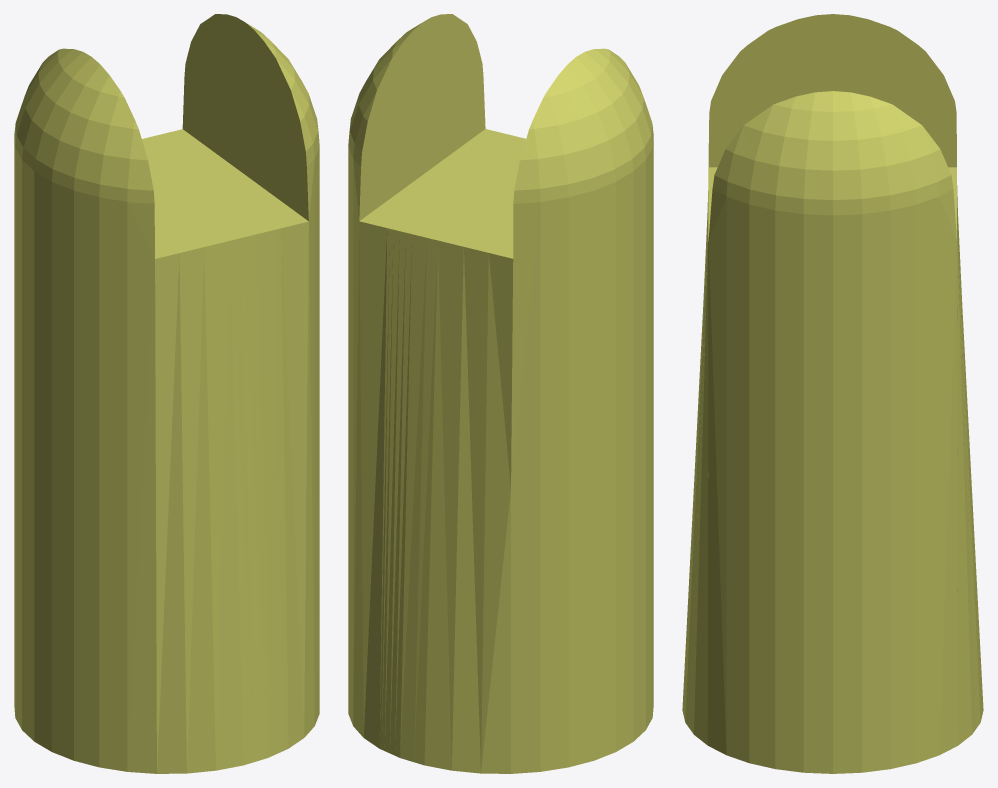
The picture shows the model from 3 angles, left to right: view 1: azimuth 30°, elevation 25°; view 2: azimuth 150°, elevation 25°; view 3: azimuth 270°, elevation 25°; orthographic projection.
Parts seen in each view (by area): view 1: link_4_collision; view 2: link_4_collision; view 3: link_4_collision.
Part boxes in pixels (bbox=[...]): link_4_collision: bbox=[14, 14, 319, 773]; link_4_collision: bbox=[348, 14, 653, 773]; link_4_collision: bbox=[682, 14, 983, 773].
Bounding box in the file's own units: 0.206 × 0.206 × 0.4983.
